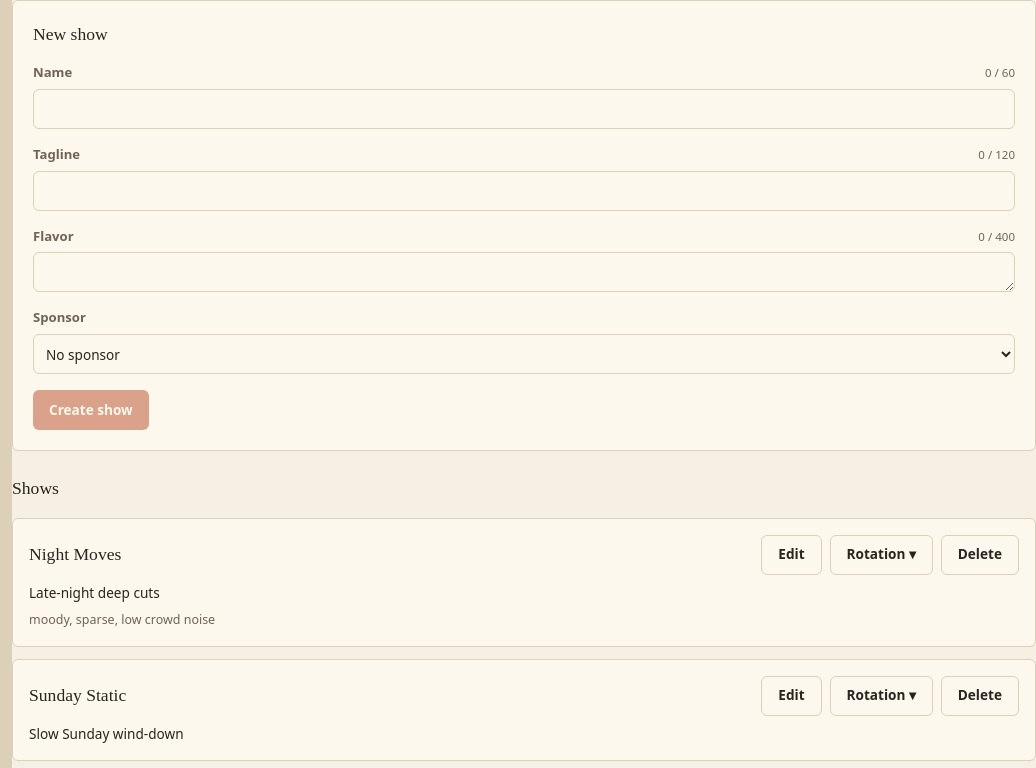
Feature: The Shows page › Scenario: authoring in place › edits an authored show and round-trips every field
This screenshot has width=1036, height=768.
Click the button with aria-label "Edit Night Moves": point(791, 554) [761, 534, 822, 574]
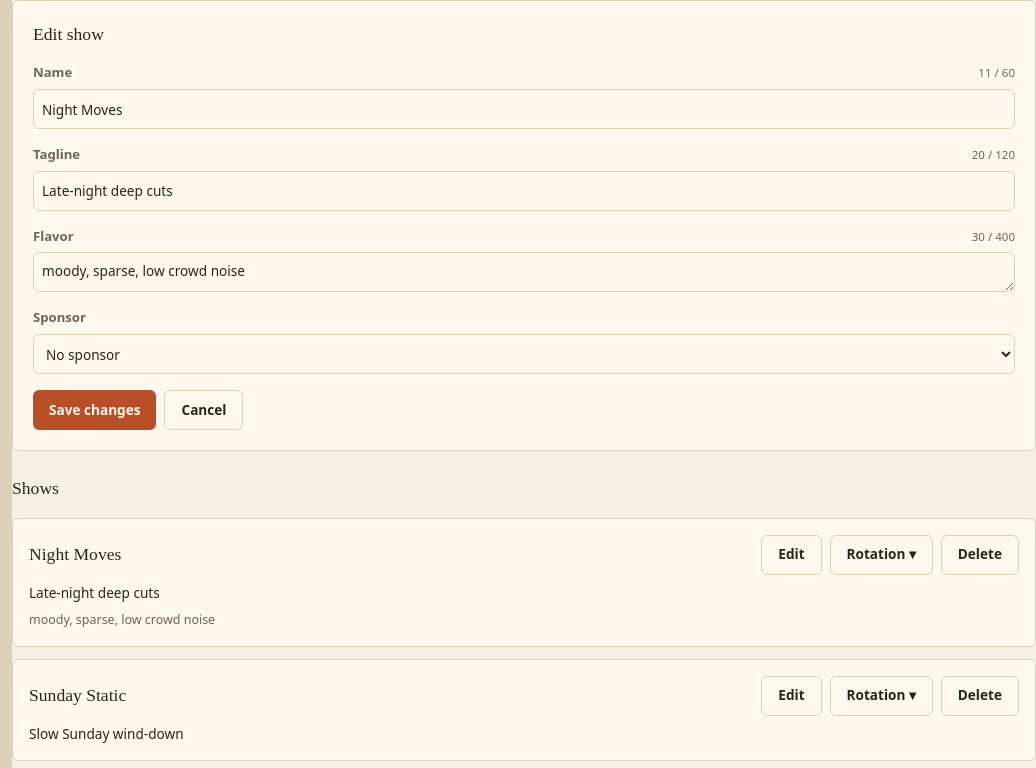
Check: the field labelled "Name" holds "Night Moves"
Check: the field labelled "Tagline" holds "Late-night deep cuts", box [33, 171, 1015, 211]
Check: the text box labelled "Flavor" holds "moody, sparse, low crowd noise", box [33, 252, 1015, 292]
Replace the text in the field labelled "Name" with "Night Moves Revisited": point(524, 109) [33, 89, 1015, 129]
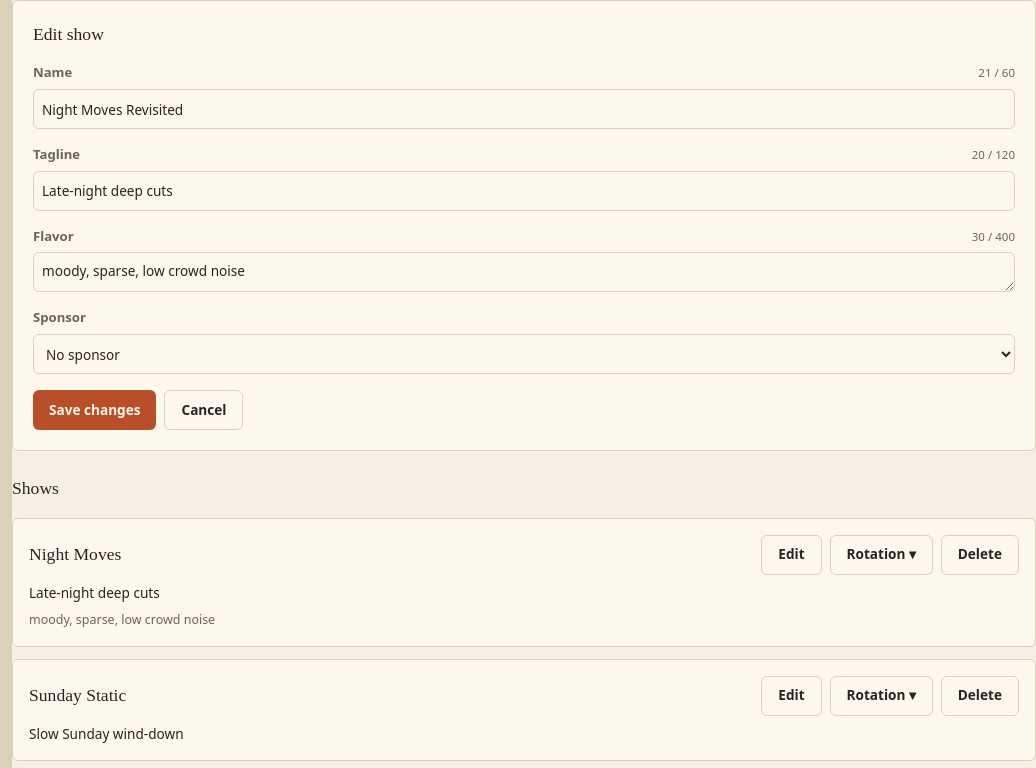
Replace the text in the field labelled "Tagline" with "Revisited": point(524, 191) [33, 171, 1015, 211]
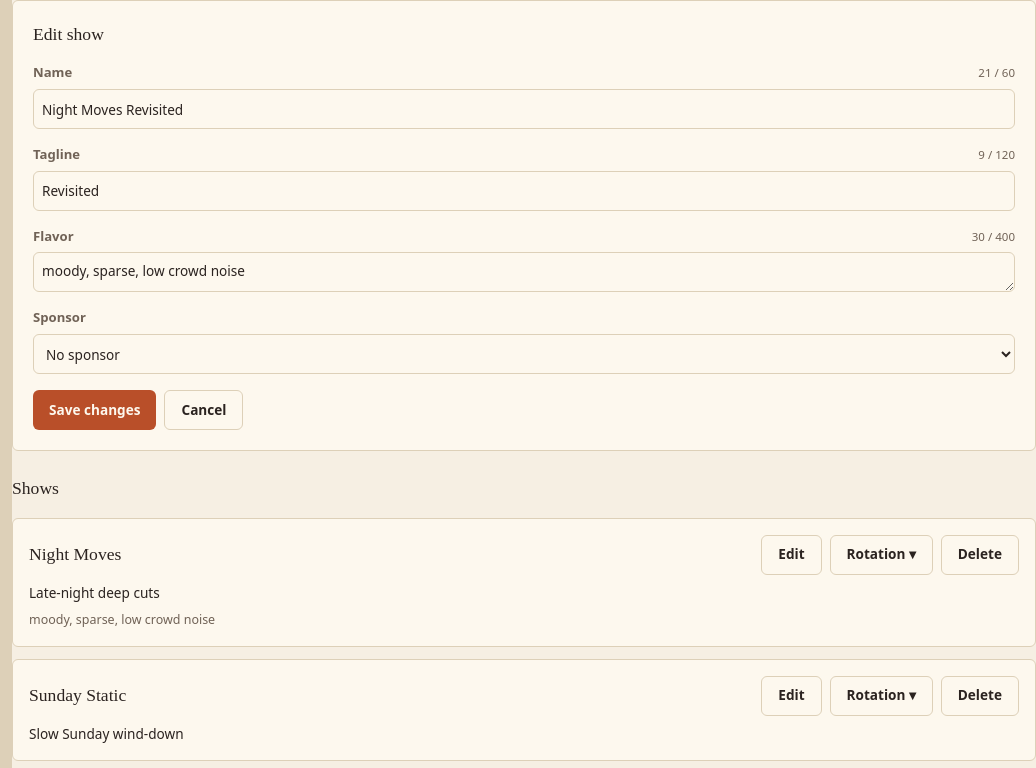
Replace the text in the text box labelled "Flavor" with "moodier, sparser": point(524, 272) [33, 252, 1015, 292]
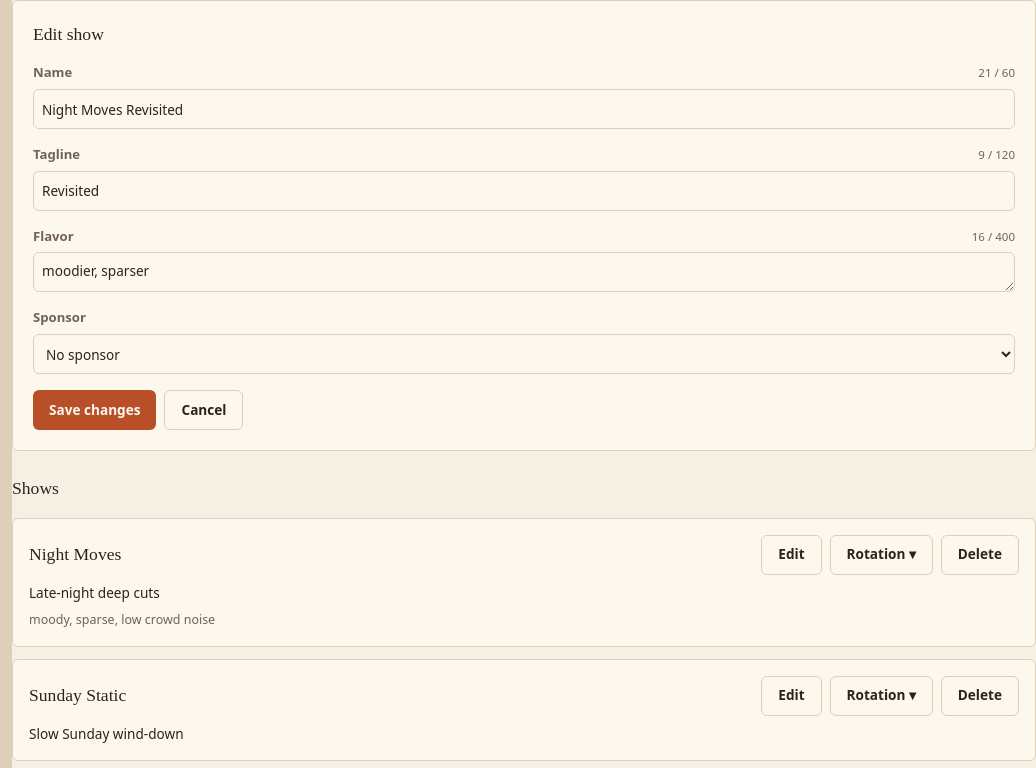
Click the button "Save changes": point(95, 410) [33, 390, 156, 430]
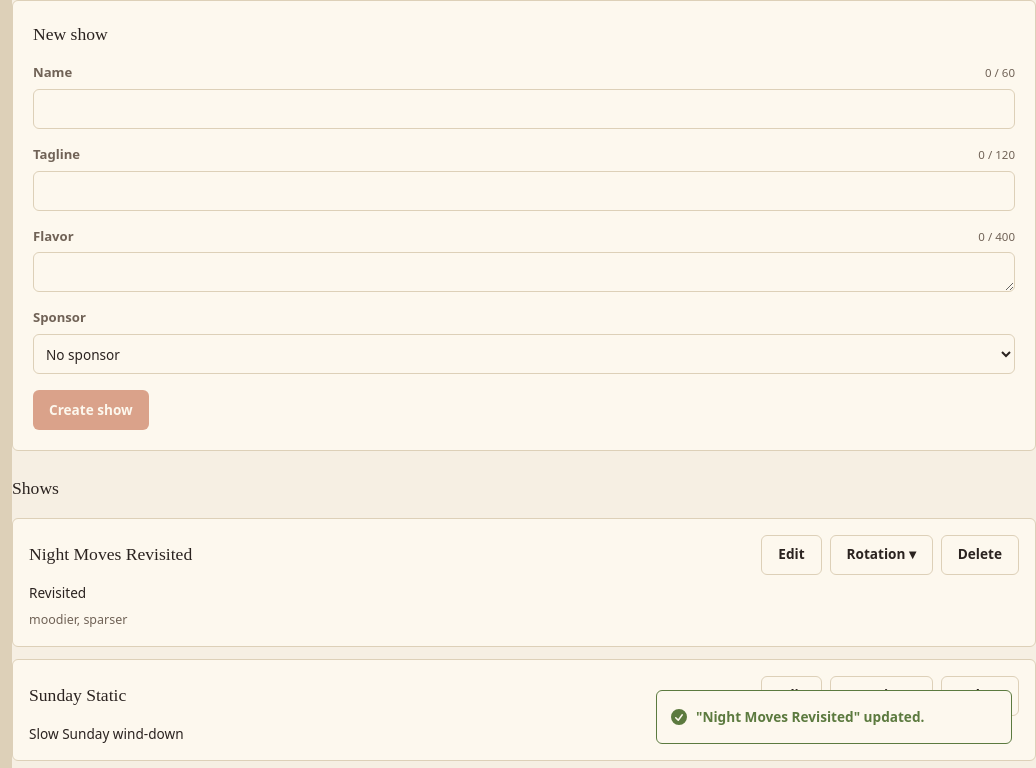
Check: the heading "Night Moves Revisited" is shown, box [29, 541, 192, 568]
Check: the text "Revisited" is shown, box [29, 582, 86, 602]
Check: the text "moodier, sparser" is shown, box [29, 611, 127, 628]
